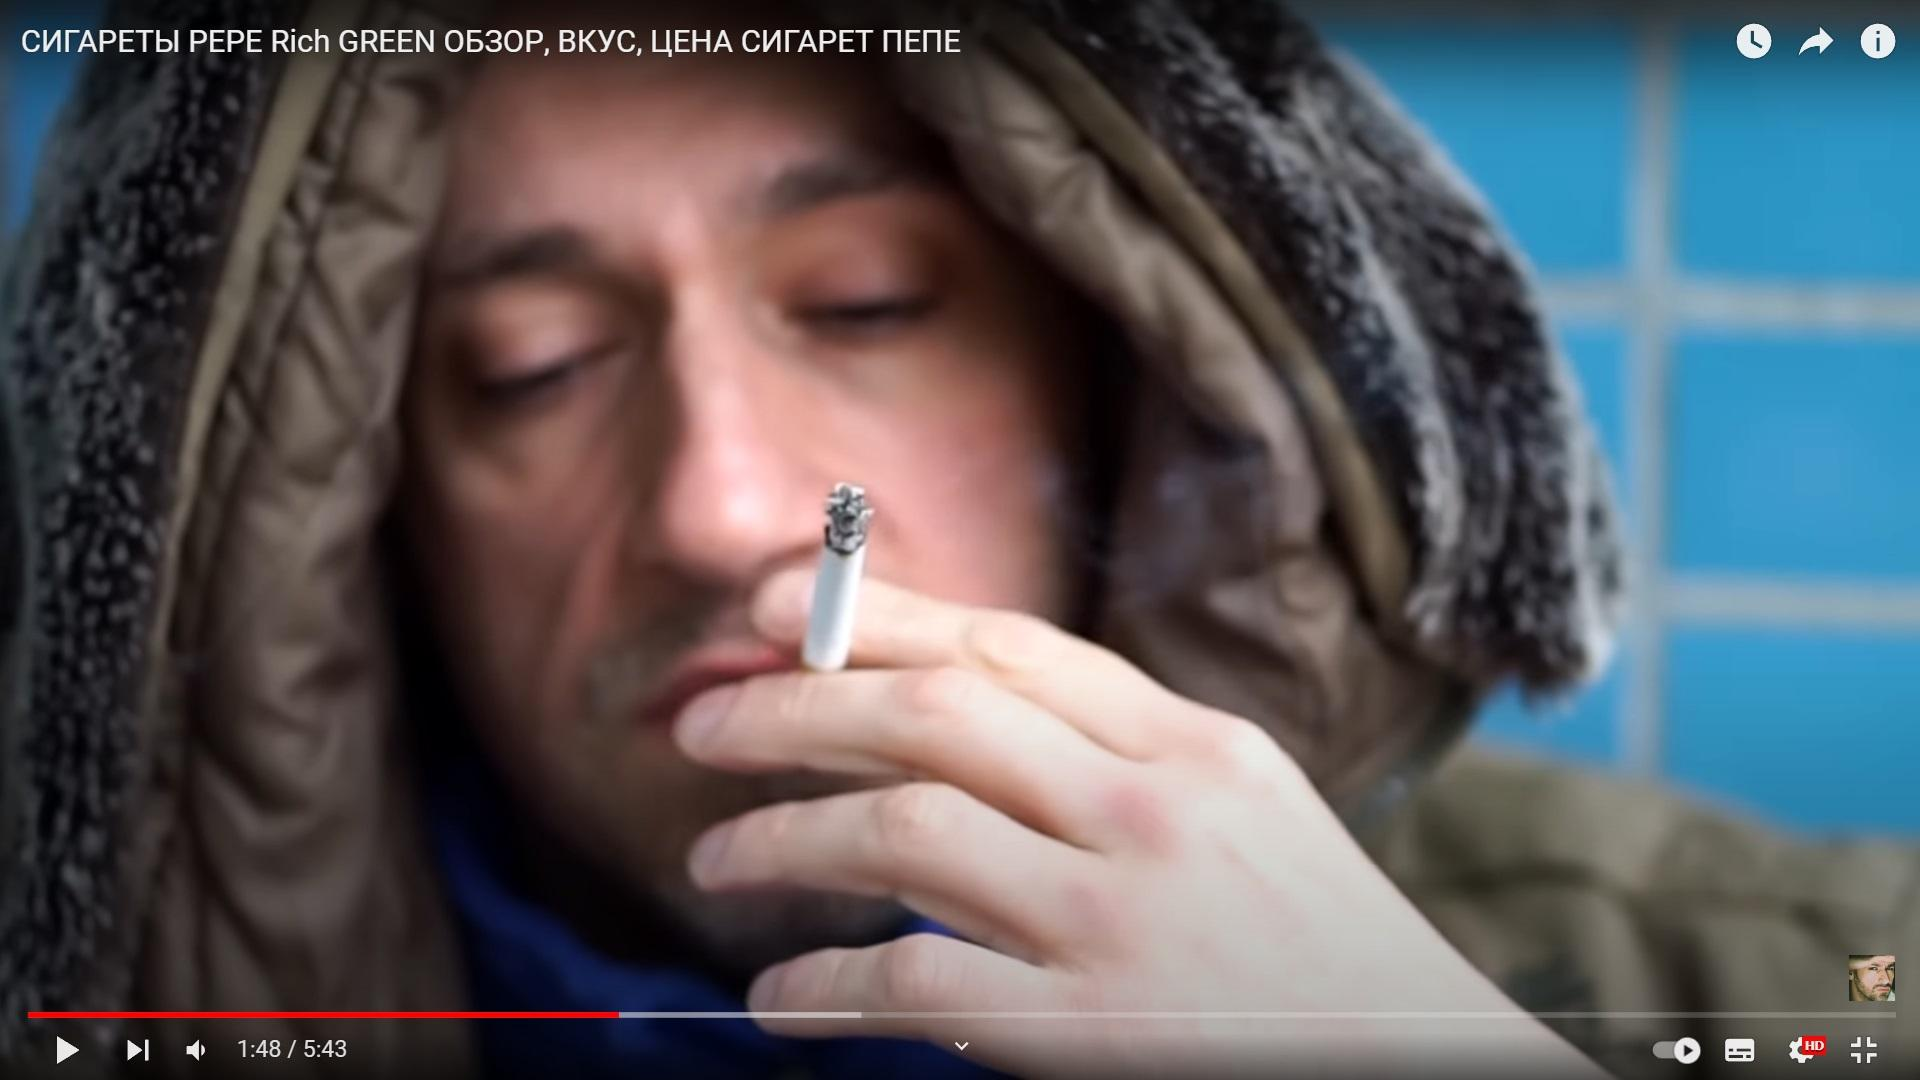cigarette: (803, 481, 869, 671)
